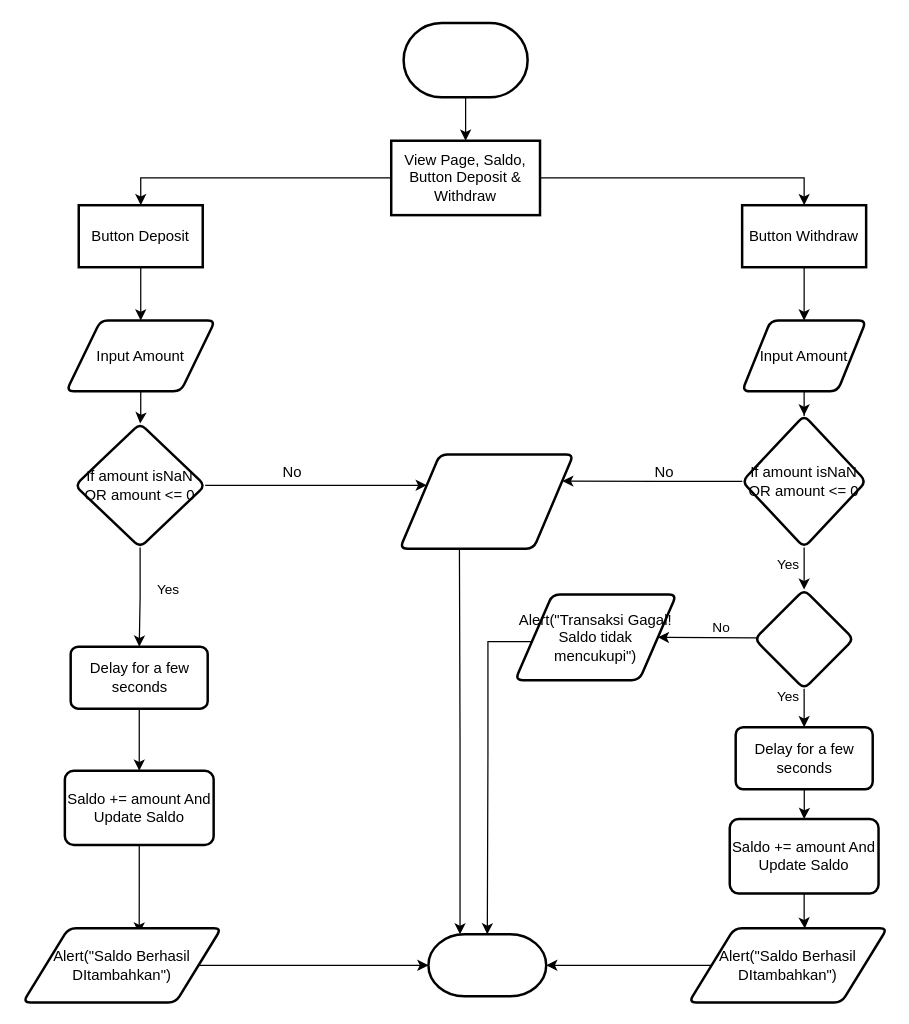
Image size: 909x1024. Some labels were removed from this diagram. Here are the shapes that lost their labels. From the top down, the centre of each, then its label:
point 465,59: Start
point 486,501: Alert (" Masukan angka yang Valid")
point 803,638: If saldo < amount
point 487,964: FInish
